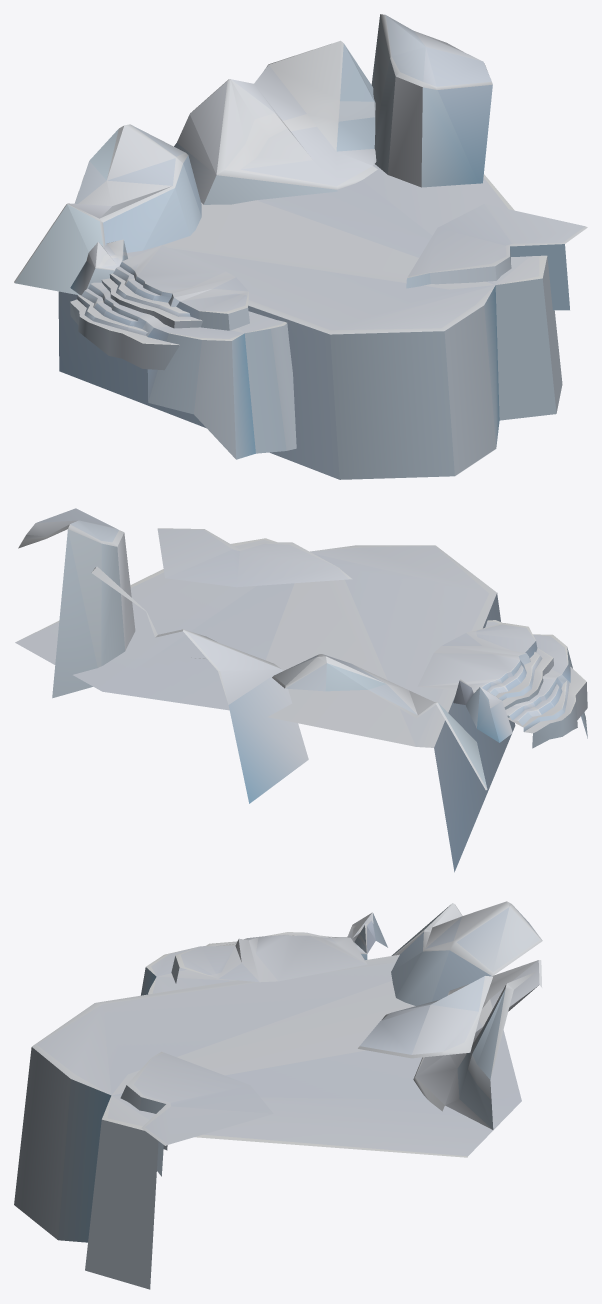
The model's file is iceBase.glb.
3 renders of one model, top to bottom at view 1: azimuth 30°, elevation 25°; view 2: azimuth 150°, elevation 25°; view 3: azimuth 270°, elevation 25°, orthographic. The views are drawn at different scales.
Parts seen in each view (by area): view 1: iceBase; view 2: iceBase; view 3: iceBase.
Part boxes in pixels (left/top/right/bottom): iceBase: left=14, top=14, right=587, bottom=479; iceBase: left=15, top=508, right=587, bottom=872; iceBase: left=14, top=901, right=542, bottom=1289.
Bounding box in the file's own units: 35.77 × 20.76 × 35.05.
